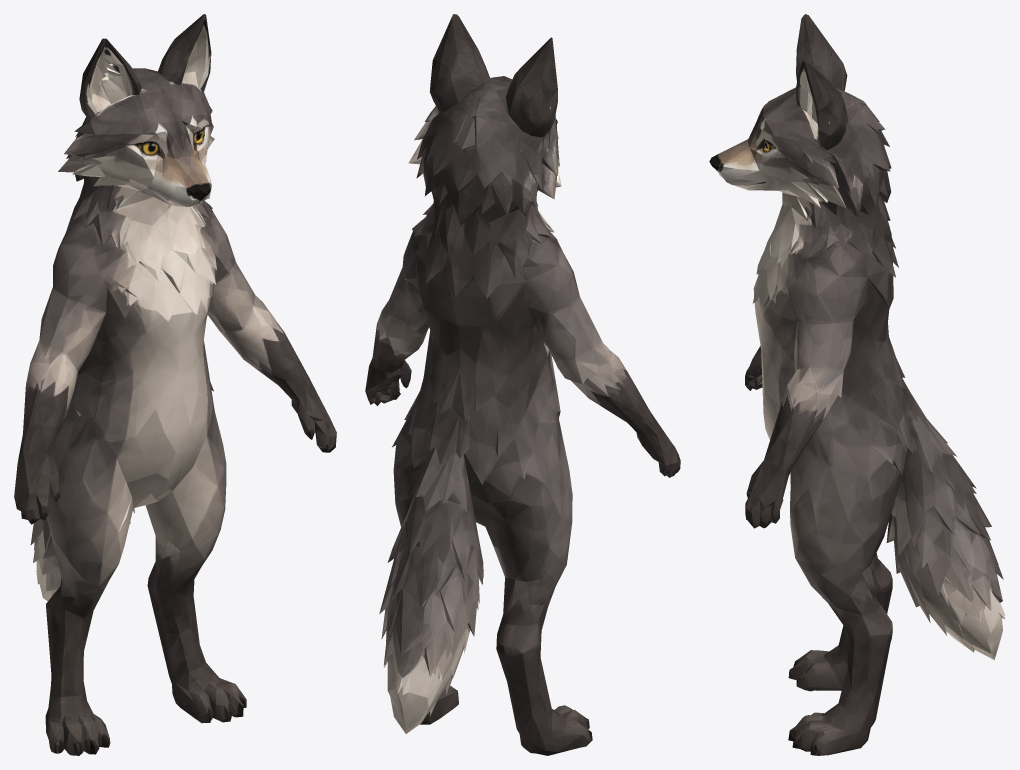
The model's file is wolf.glb.
The picture shows the model from 3 angles, left to right: view 1: azimuth 30°, elevation 25°; view 2: azimuth 150°, elevation 25°; view 3: azimuth 270°, elevation 25°; orthographic projection. The views are drawn at different scales.
Parts seen in each view (by area): view 1: output_unwrapped; view 2: output_unwrapped; view 3: output_unwrapped.
Part boxes in pixels (x1,y1,x2,y2): output_unwrapped: (14, 14, 336, 755); output_unwrapped: (365, 14, 680, 755); output_unwrapped: (709, 14, 1005, 755).
Bounding box in the file's own units: 0.8759 × 1.9 × 0.7535.
Materials: 1 (1 with a texture image).
